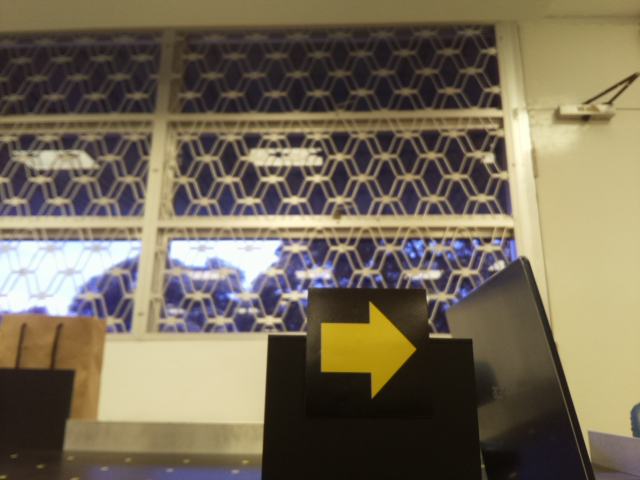right: (310, 297, 419, 401)
